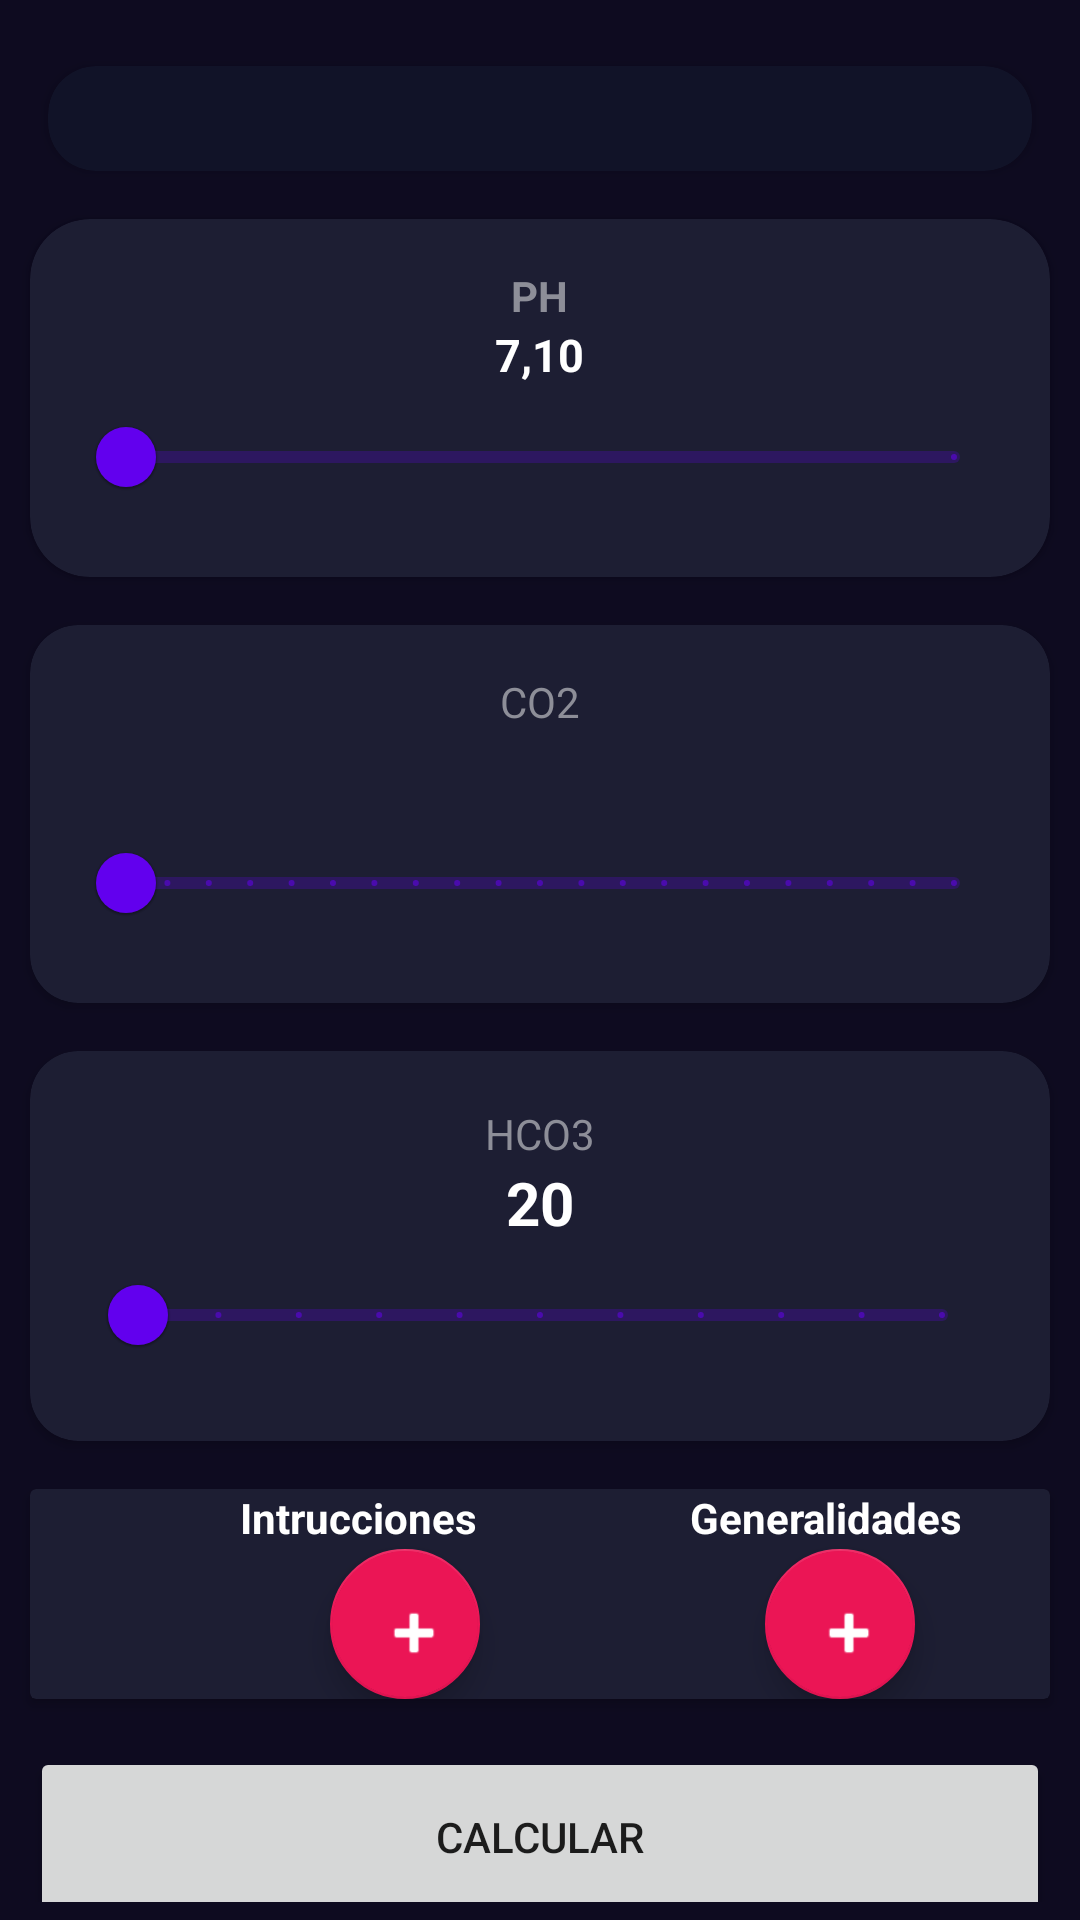

Screen size 1080 × 1920. Icon name, then its center in pixels as (x=x, y=y):
add: (x=405, y=1624), (x=840, y=1624)
